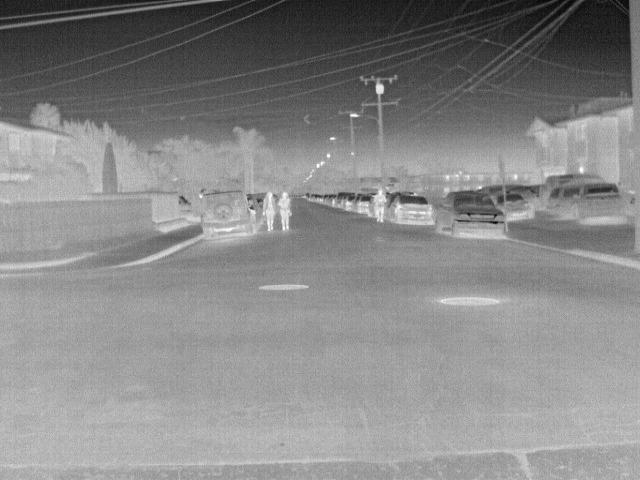car: (435, 190, 511, 238), (200, 189, 258, 240), (573, 183, 629, 227), (537, 174, 606, 209), (387, 192, 434, 226), (545, 186, 584, 220), (491, 190, 534, 220), (336, 190, 355, 209), (355, 195, 372, 216), (344, 196, 357, 213)
person: (262, 192, 278, 234), (276, 190, 291, 232), (371, 188, 386, 224)
